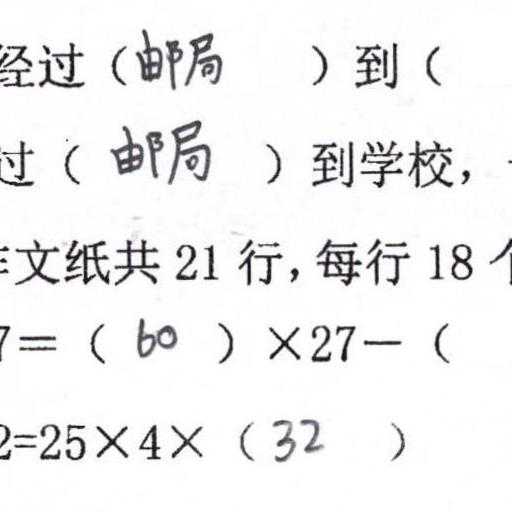ans: (109, 117, 212, 186), (136, 25, 225, 94), (265, 410, 323, 462), (130, 310, 176, 359)
